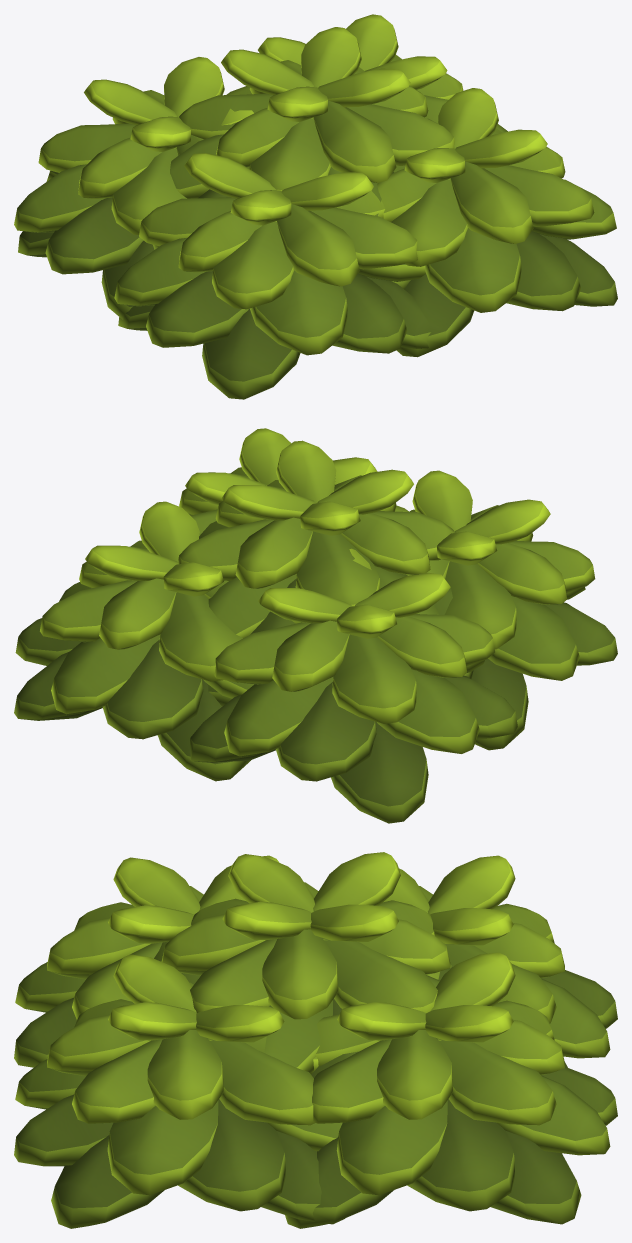
File: big_tree_foliage_group_LOD_group.fbx
The picture shows the model from 3 angles, top to bottom: view 1: azimuth 30°, elevation 25°; view 2: azimuth 150°, elevation 25°; view 3: azimuth 270°, elevation 25°; orthographic projection. The views are drawn at different scales.
Parts seen in each view (by area): view 1: big_tree_foliage_group_LOD0; view 2: big_tree_foliage_group_LOD0; view 3: big_tree_foliage_group_LOD0.
Boxes of the visible parts, x1=… form: big_tree_foliage_group_LOD0: x1=14, y1=14, x2=617, y2=399; big_tree_foliage_group_LOD0: x1=14, y1=428, x2=617, y2=823; big_tree_foliage_group_LOD0: x1=14, y1=852, x2=617, y2=1228.
Size of what is drawn, in the model's own units: 265 by 122 by 263.
Materials: 1 (1 with a texture image).
